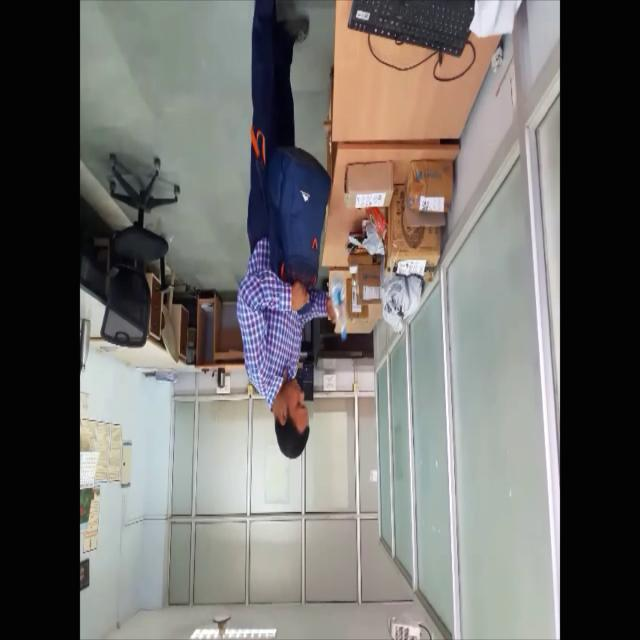shoplifting: (232, 0, 349, 473)
